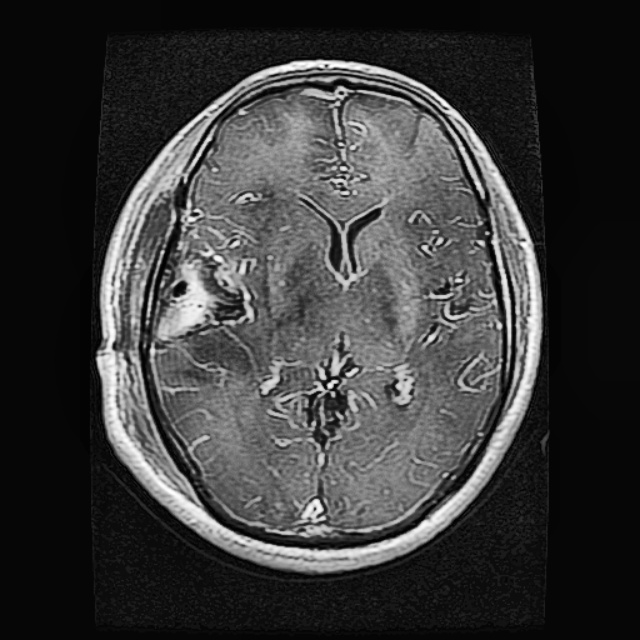Pituitary: (152, 210, 257, 345)
